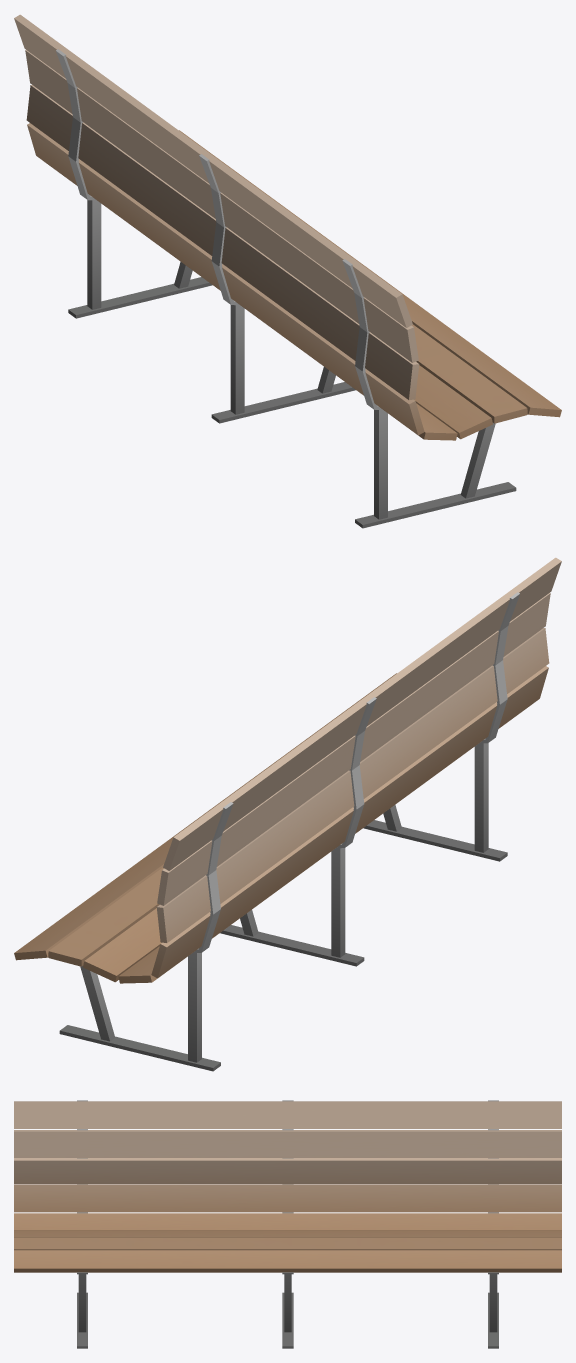
Rendered from Bench.fbx.
3 views of the same model, one above another, from view 1: azimuth 30°, elevation 25°; view 2: azimuth 150°, elevation 25°; view 3: azimuth 270°, elevation 25° (orthographic). The views are drawn at different scales.
Parts seen in each view (by area): view 1: Bench; view 2: Bench; view 3: Bench.
Boxes of the visible parts, x1=… form: Bench: x1=14, y1=14, x2=561, y2=528; Bench: x1=14, y1=557, x2=561, y2=1071; Bench: x1=14, y1=1100, x2=561, y2=1348.
Size of the model in its own units: 50.75 by 77.19 by 200.
